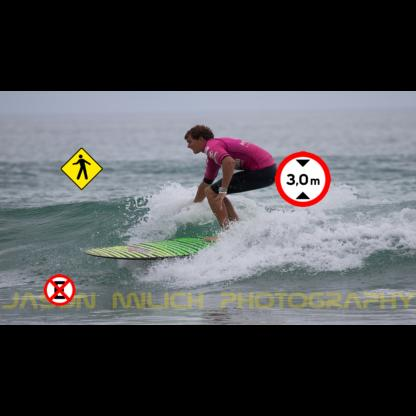A-32a: (60, 147, 103, 190)
R-15: (275, 151, 331, 207)
R-6c: (44, 274, 75, 306)
